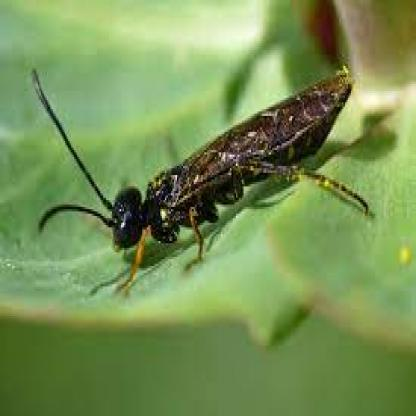sawfly: (31, 65, 372, 295)
